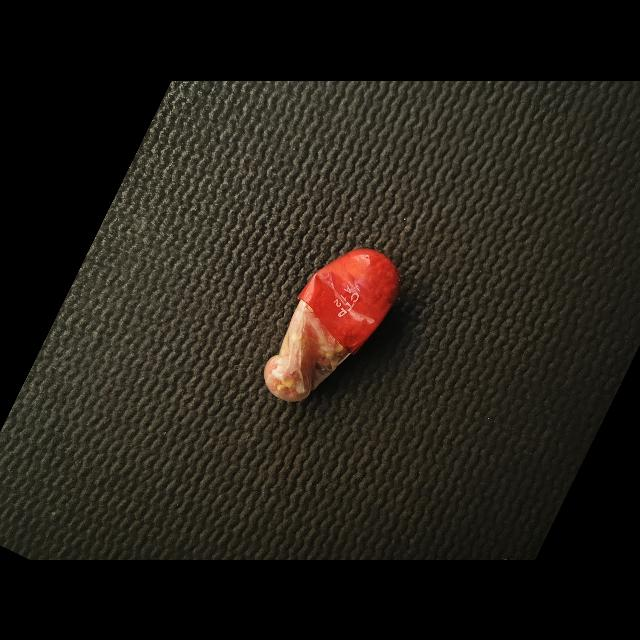Defective Capsule: (264, 248, 399, 401)
